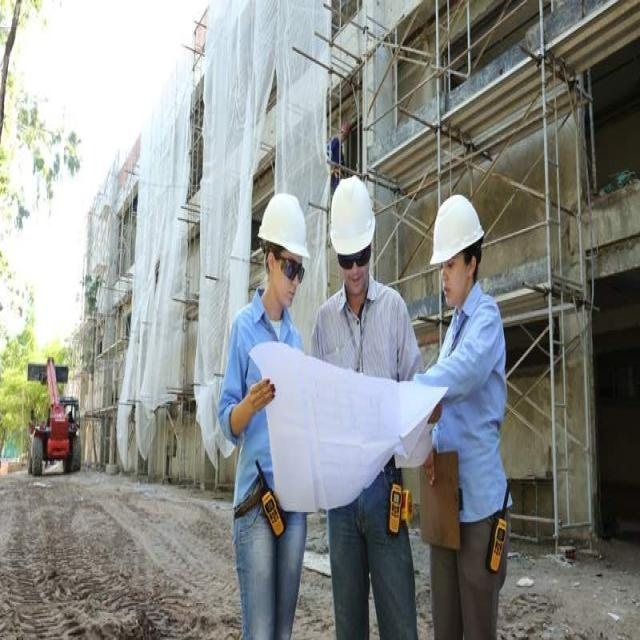Con_Casco: (253, 191, 308, 305), (329, 176, 376, 291), (432, 194, 482, 302)
